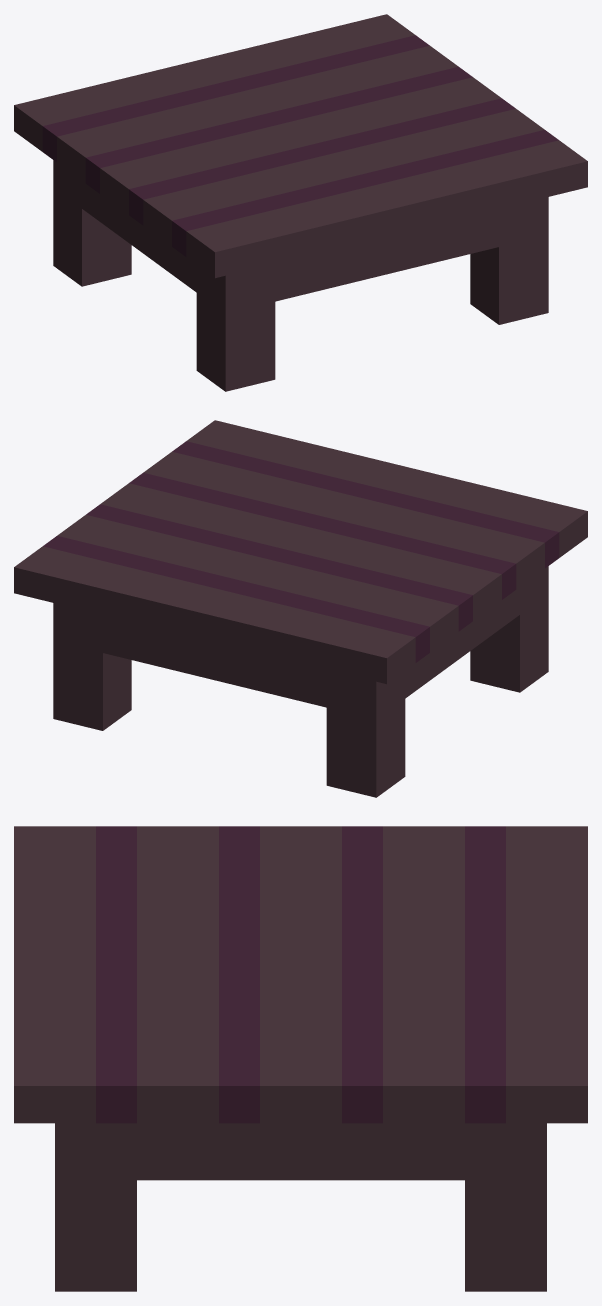
File: small_table_c.obj
3 renders of one model, top to bottom at view 1: azimuth 30°, elevation 25°; view 2: azimuth 150°, elevation 25°; view 3: azimuth 270°, elevation 25°, orthographic. The views are drawn at different scales.
Size of the model in its own units: 1.5 by 0.6 by 1.4.
Materials: 1 (1 with a texture image).
